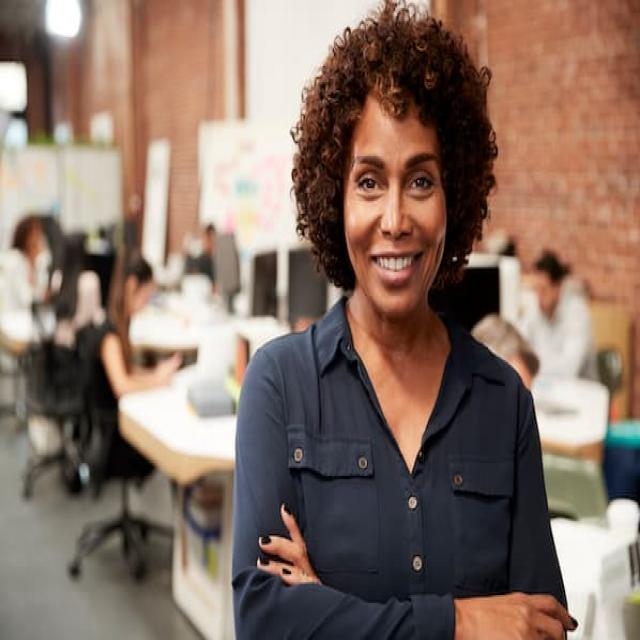No_Glove: (254, 510, 330, 596)
No_Goggles: (348, 147, 442, 207)
No_Harness: (233, 343, 569, 629)
No_Helmet: (302, 3, 478, 131)
Person: (198, 23, 604, 640)
